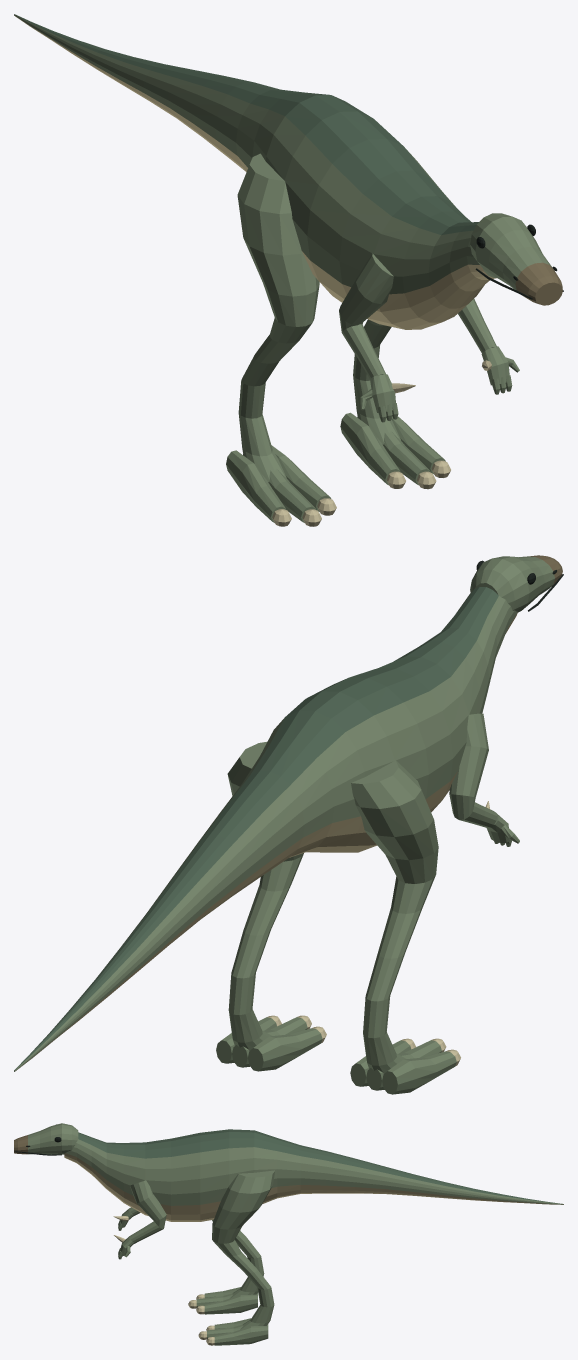
3 views of the same model, one above another, from view 1: azimuth 30°, elevation 25°; view 2: azimuth 150°, elevation 25°; view 3: azimuth 270°, elevation 25° (orthographic). The views are drawn at different scales.
Parts seen in each view (by area): view 1: Light_torso_neck_and_complete_tail, Long_hindlimbs_and_short_forelimbs, Paired_three_toed_hind_feet, Low_long_skull_with_narrow_beak, Paired_complete_hands_with_outer_digits, Thumb_spikes_and_blunt_toe_caps; view 2: Light_torso_neck_and_complete_tail, Long_hindlimbs_and_short_forelimbs, Paired_three_toed_hind_feet, Low_long_skull_with_narrow_beak; view 3: Light_torso_neck_and_complete_tail, Long_hindlimbs_and_short_forelimbs, Paired_three_toed_hind_feet, Low_long_skull_with_narrow_beak, Thumb_spikes_and_blunt_toe_caps, Paired_complete_hands_with_outer_digits.
Boxes of the visible parts, x1,y1,x2,y2 form: Light_torso_neck_and_complete_tail: (14, 14, 496, 329); Long_hindlimbs_and_short_forelimbs: (237, 153, 496, 482); Paired_three_toed_hind_feet: (226, 412, 445, 522); Low_long_skull_with_narrow_beak: (470, 213, 562, 305); Paired_complete_hands_with_outer_digits: (360, 346, 519, 422); Thumb_spikes_and_blunt_toe_caps: (272, 360, 491, 526); Light_torso_neck_and_complete_tail: (14, 587, 517, 1071); Long_hindlimbs_and_short_forelimbs: (227, 713, 497, 1073); Paired_three_toed_hind_feet: (216, 1017, 456, 1094); Low_long_skull_with_narrow_beak: (470, 555, 562, 612); Light_torso_neck_and_complete_tail: (64, 1129, 563, 1221); Long_hindlimbs_and_short_forelimbs: (128, 1170, 274, 1329); Paired_three_toed_hind_feet: (196, 1287, 268, 1345); Low_long_skull_with_narrow_beak: (14, 1123, 78, 1154); Thumb_spikes_and_blunt_toe_caps: (113, 1216, 214, 1345); Paired_complete_hands_with_outer_digits: (118, 1209, 133, 1259).
Size of the model in its own units: 1.41 by 2.8 by 7.
